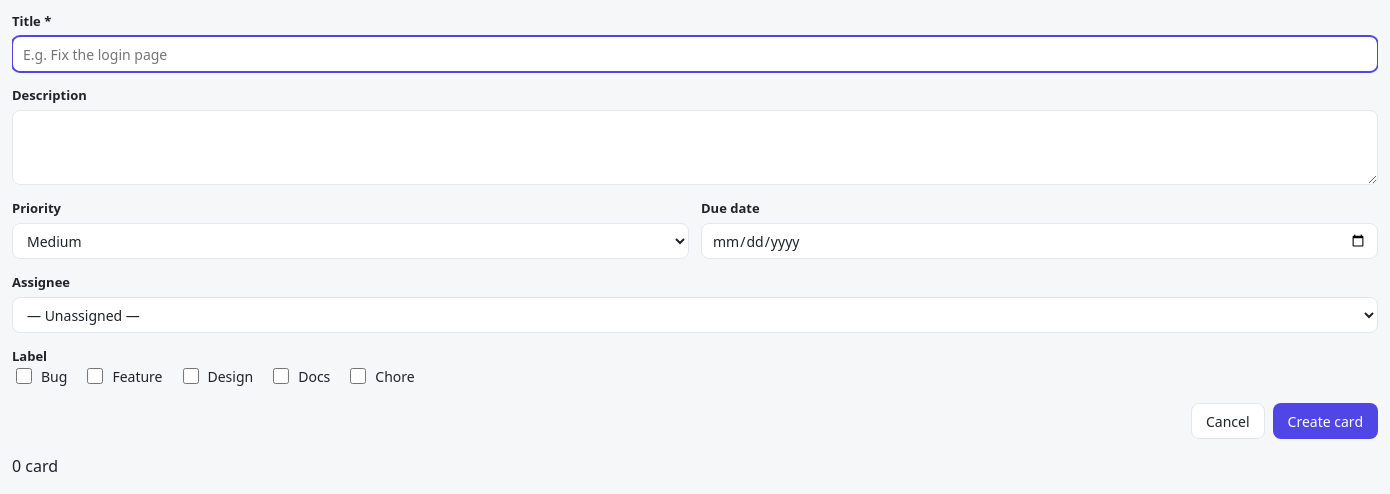
valid submit → POSTs the card and puts it in the store
Type "Write tests" into the field labelled "Title *".
click(695, 54); type("Write tests")  # box x1=12 y1=36 x2=1378 y2=72
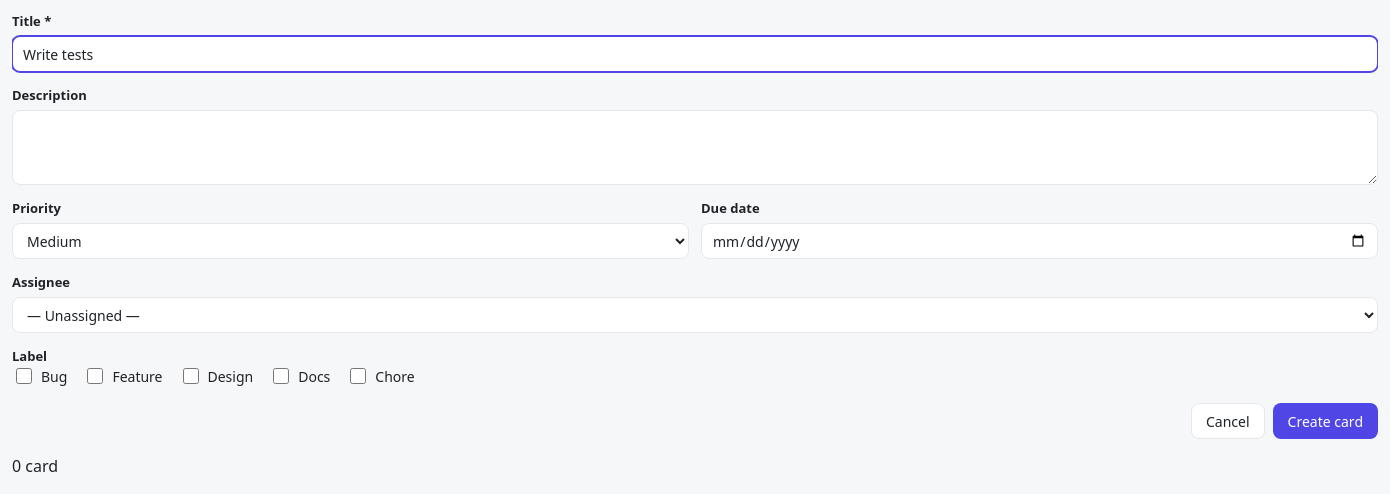
Select "An" in the dropdown labelled "Assignee" at (695, 315), box x1=12 y1=297 x2=1378 y2=333
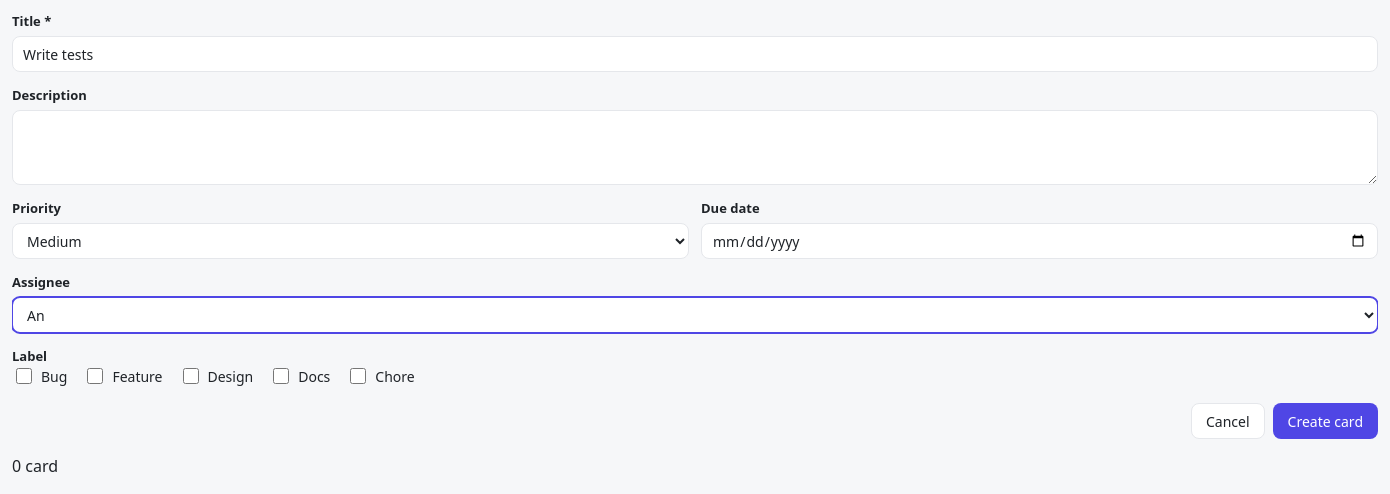
Click the checkbox labelled "Bug".
click(24, 376)  # box x1=16 y1=368 x2=32 y2=384
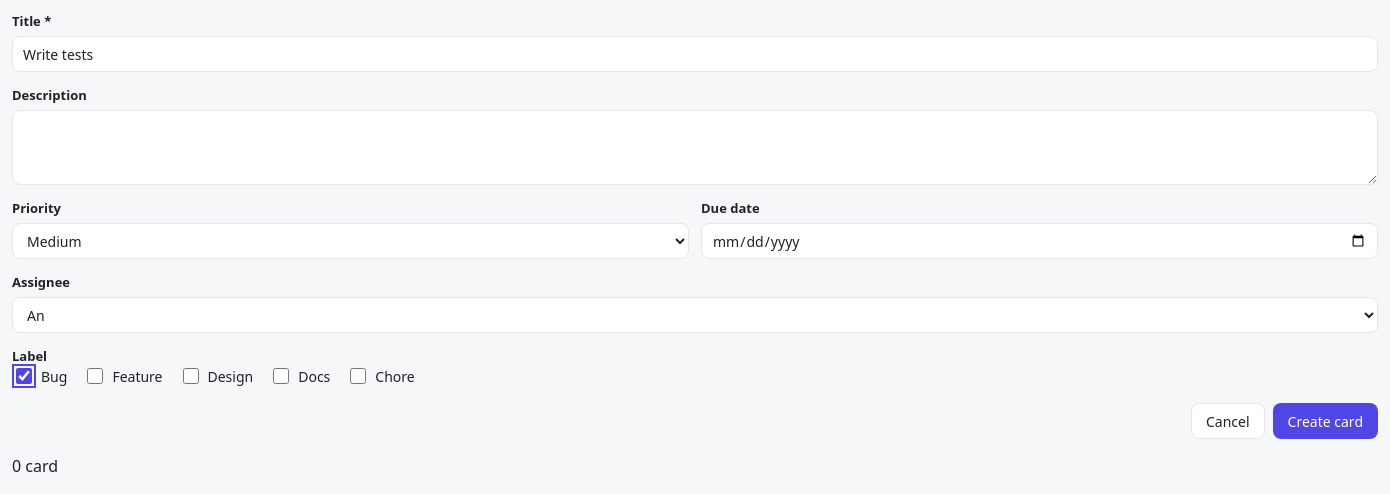
Click the button "Create card".
click(1325, 421)  # box x1=1273 y1=403 x2=1378 y2=439
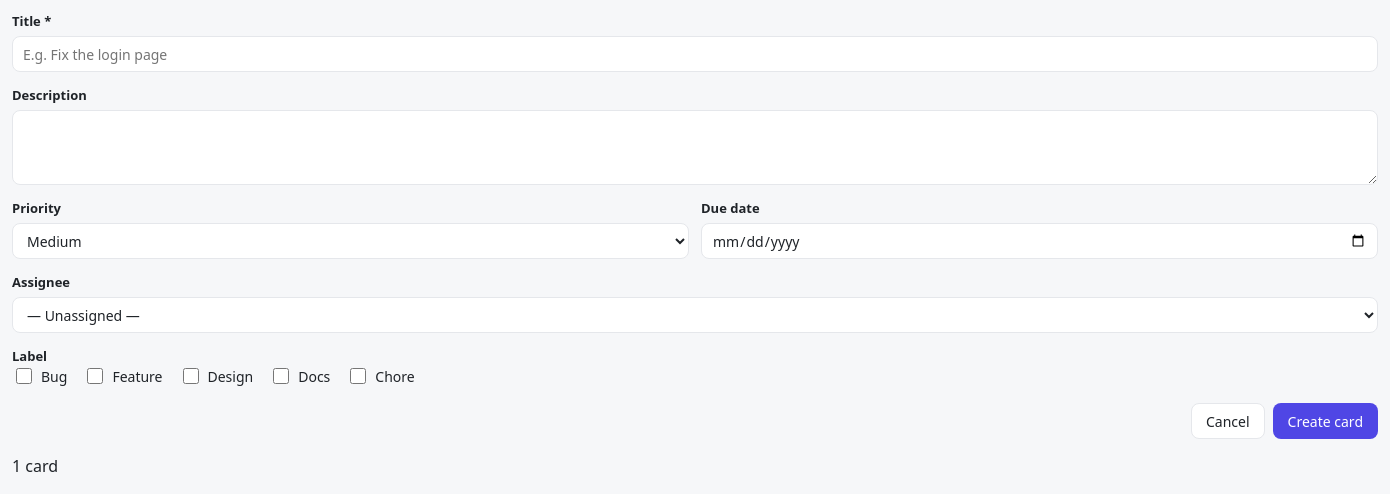
Expected: the text "1 card" is shown, x1=12 y1=455 x2=58 y2=477
